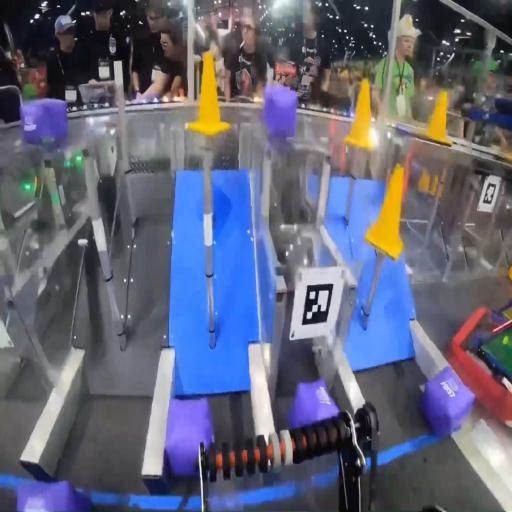robot: (445, 294, 512, 429)
